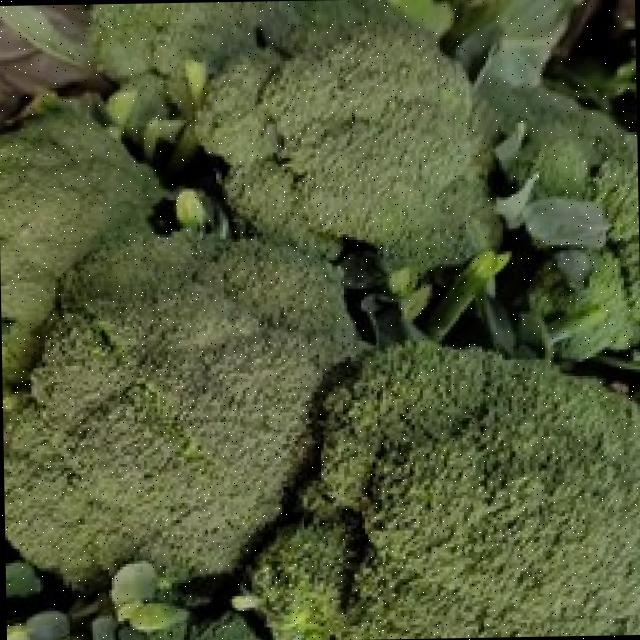Broccoli: (2, 234, 367, 582), (2, 234, 363, 581), (241, 343, 640, 640), (249, 343, 640, 640), (192, 22, 497, 270), (192, 22, 497, 268), (0, 107, 163, 325), (0, 107, 163, 325), (88, 0, 298, 79), (88, 0, 298, 79)
